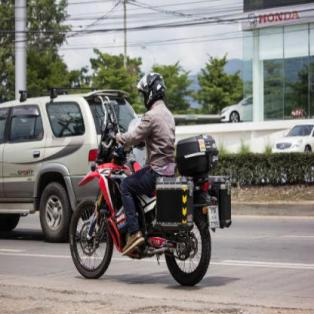Motocicleta: (67, 134, 216, 288)
